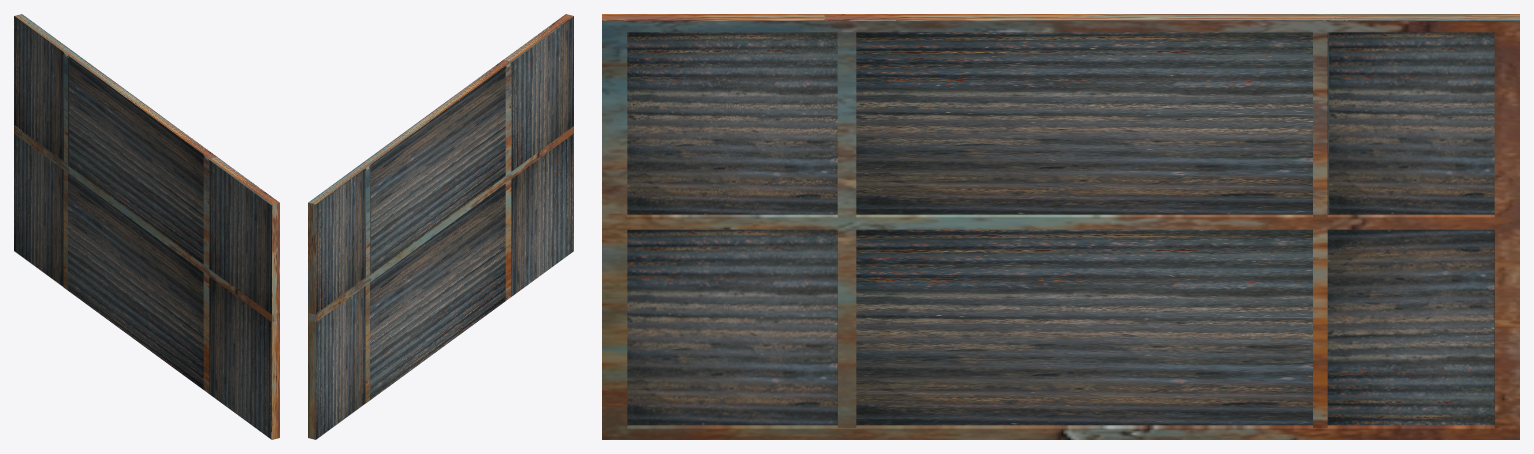
File: ıronwall.fbx
3 renders of one model, left to right at view 1: azimuth 30°, elevation 25°; view 2: azimuth 150°, elevation 25°; view 3: azimuth 270°, elevation 25°, orthographic. The views are drawn at different scales.
Parts seen in each view (by area): view 1: ıronwall; view 2: ıronwall; view 3: ıronwall.
Boxes of the visible parts, bbox=[...] form: ıronwall: bbox=[14, 14, 279, 439]; ıronwall: bbox=[308, 14, 573, 439]; ıronwall: bbox=[602, 14, 1519, 439].
Size of the model in its own units: 12.67 by 359 by 713.
Materials: 1 (1 with a texture image).
